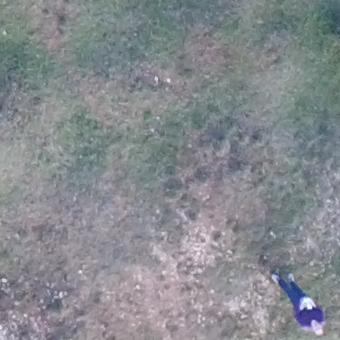human: (265, 270, 329, 337)
